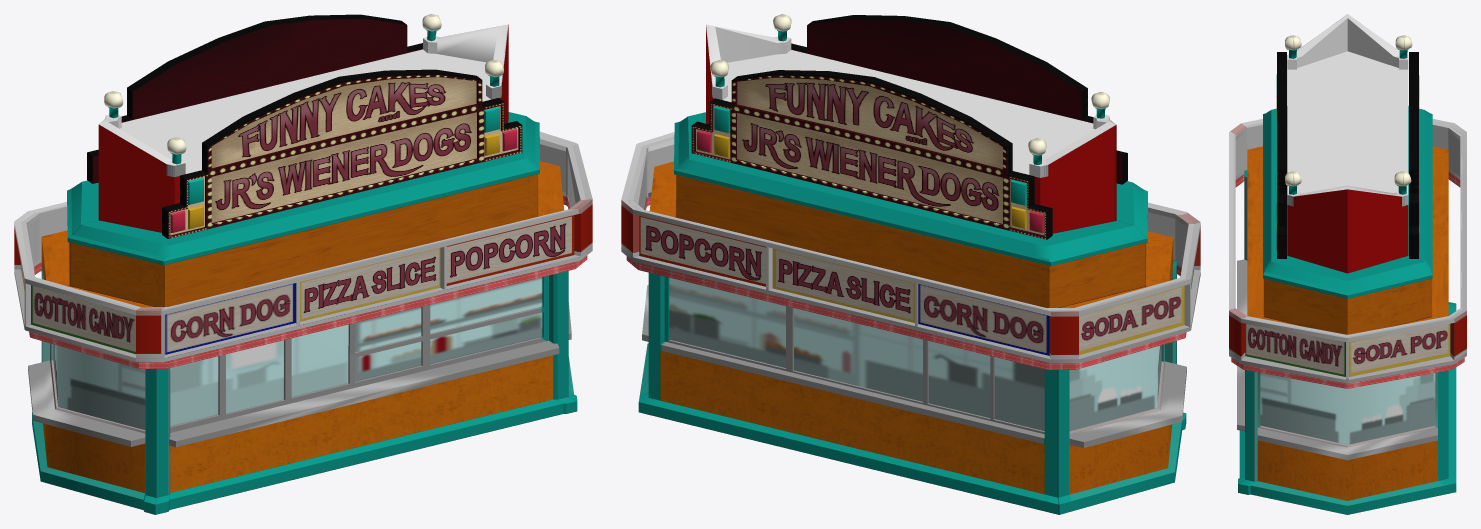
Rendered from FoodStand.fbx.
The picture shows the model from 3 angles, left to right: view 1: azimuth 30°, elevation 25°; view 2: azimuth 150°, elevation 25°; view 3: azimuth 270°, elevation 25°; orthographic projection. The views are drawn at different scales.
Visible parts, largest first — view 1: FoodStand001, Sign01, Sign, Sign002; view 2: FoodStand001, Sign01, Sign002, Sign; view 3: FoodStand001, Sign01, Sign, Sign002.
Boxes of the visible parts, x1,y1,x2,y2 form: FoodStand001: [28, 14, 577, 514]; Sign01: [14, 131, 592, 368]; Sign: [162, 69, 522, 238]; Sign002: [87, 14, 422, 183]; FoodStand001: [638, 14, 1186, 514]; Sign01: [621, 132, 1200, 369]; Sign002: [691, 70, 1052, 239]; Sign: [791, 15, 1127, 184]; FoodStand001: [1237, 14, 1456, 514]; Sign01: [1229, 119, 1466, 388]; Sign: [1276, 52, 1286, 258]; Sign002: [1409, 52, 1419, 258].
Size of the model in its own units: 1090 by 708 by 464.
